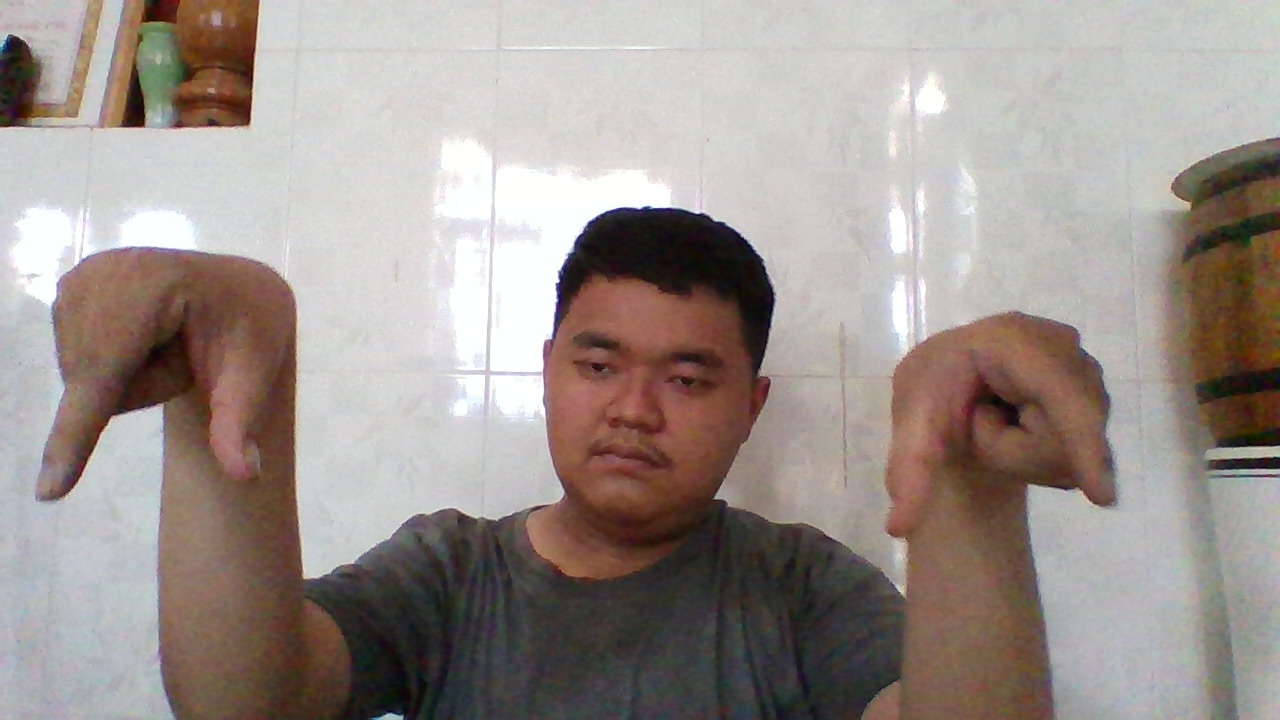Q: (29, 248, 260, 508), (904, 315, 1136, 522)
